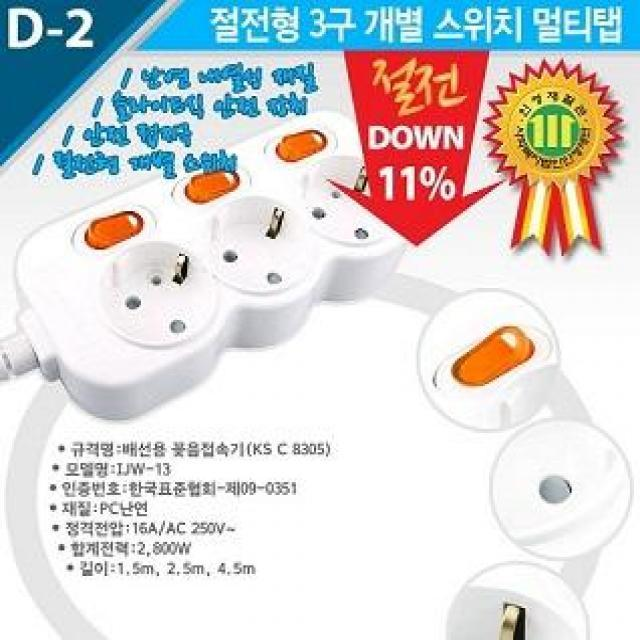typeb: (2, 3, 444, 474)
